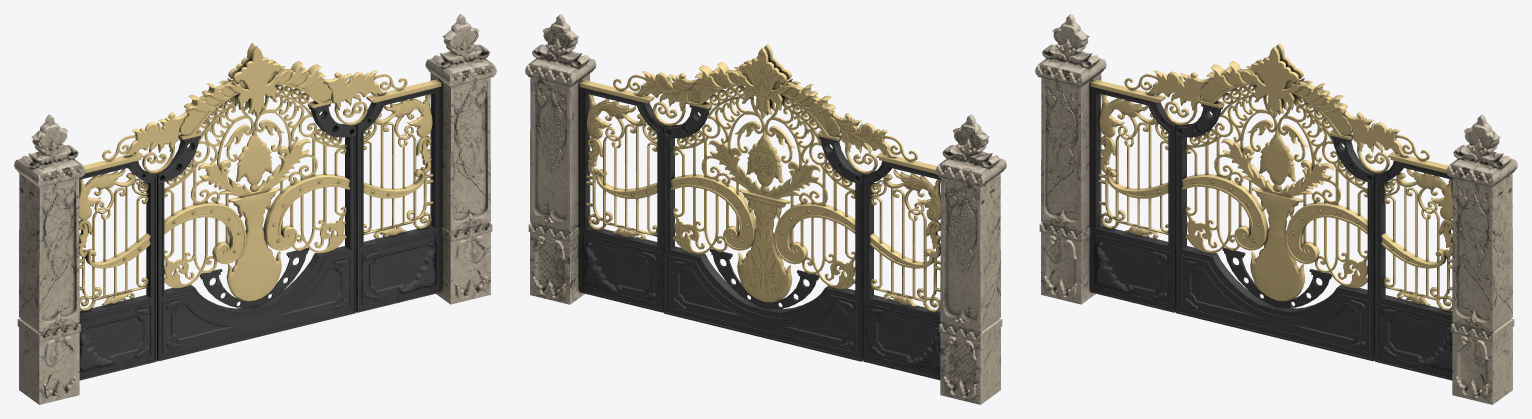
The model's file is reja.glb.
3 views of the same model, side by side, from view 1: azimuth 30°, elevation 25°; view 2: azimuth 150°, elevation 25°; view 3: azimuth 330°, elevation 25° (orthographic).
Visible parts, largest first — view 1: porton, puerta, puerta.001; view 2: porton, puerta, puerta.001; view 3: porton, puerta.001, puerta.
Part boxes in pixels (x1,y1,x2,y2): porton: (14, 14, 496, 404); puerta: (354, 79, 441, 312); puerta.001: (78, 152, 156, 380); porton: (525, 14, 1006, 404); puerta: (579, 80, 665, 312); puerta.001: (863, 152, 941, 380); porton: (1035, 14, 1517, 404); puerta.001: (1090, 79, 1177, 312); puerta: (1375, 152, 1453, 380).
Size of the model in its own units: 4.75 by 2.92 by 0.4286.
Materials: 1 (1 with a texture image).
